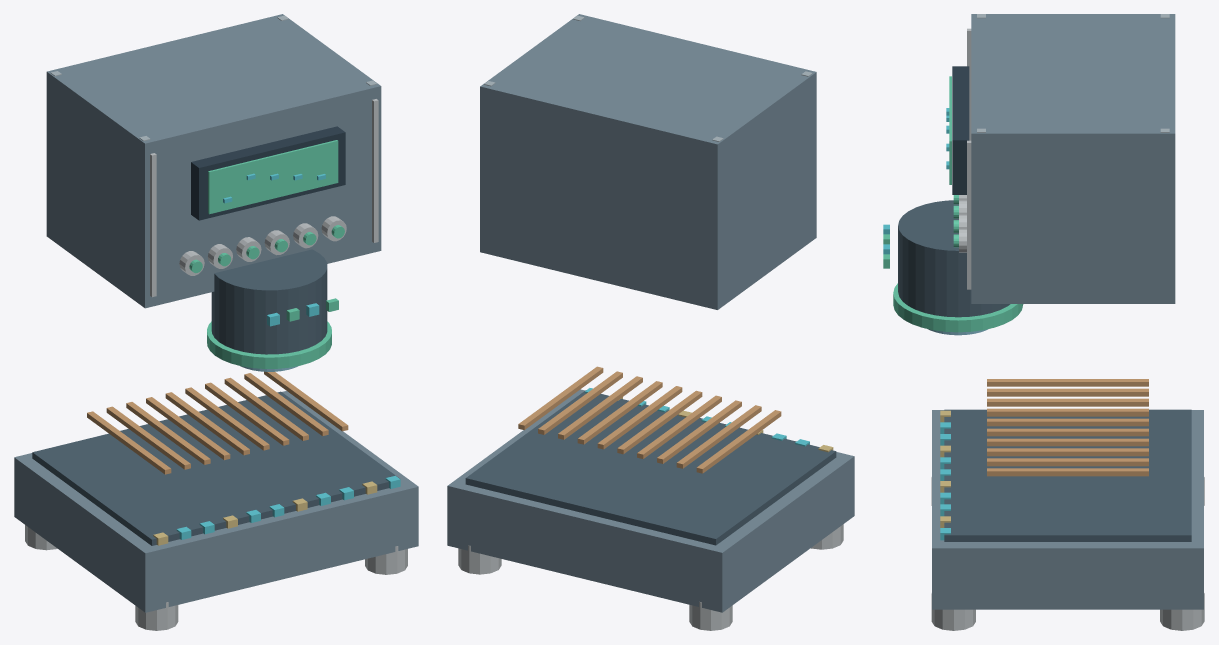
Rendered from 34_L79_AtomicScaleSurfaceFlatnessProfiler.glb.
3 renders of one model, left to right at view 1: azimuth 30°, elevation 25°; view 2: azimuth 150°, elevation 25°; view 3: azimuth 270°, elevation 25°, orthographic. The views are drawn at different scales.
Visible parts, largest first — view 1: AtomicScaleSurfaceFlatnessProfiler_Node_0017, AtomicScaleSurfaceFlatnessProfiler_Node_0000, AtomicScaleSurfaceFlatnessProfiler_Node_0001, AtomicScaleSurfaceFlatnessProfiler_Node_0024, AtomicScaleSurfaceFlatnessProfiler_Node_0028, AtomicScaleSurfaceFlatnessProfiler_Node_0027, AtomicScaleSurfaceFlatnessProfiler_Node_0025, AtomicScaleSurfaceFlatnessProfiler_Node_0022, AtomicScaleSurfaceFlatnessProfiler_Node_0023, AtomicScaleSurfaceFlatnessProfiler_Node_0051, AtomicScaleSurfaceFlatnessProfiler_Node_0047, AtomicScaleSurfaceFlatnessProfiler_Node_0003 (+9 smaller); view 2: AtomicScaleSurfaceFlatnessProfiler_Node_0017, AtomicScaleSurfaceFlatnessProfiler_Node_0000, AtomicScaleSurfaceFlatnessProfiler_Node_0001, AtomicScaleSurfaceFlatnessProfiler_Node_0050, AtomicScaleSurfaceFlatnessProfiler_Node_0046, AtomicScaleSurfaceFlatnessProfiler_Node_0055, AtomicScaleSurfaceFlatnessProfiler_Node_0047, AtomicScaleSurfaceFlatnessProfiler_Node_0051, AtomicScaleSurfaceFlatnessProfiler_Node_0052, AtomicScaleSurfaceFlatnessProfiler_Node_0048, AtomicScaleSurfaceFlatnessProfiler_Node_0053, AtomicScaleSurfaceFlatnessProfiler_Node_0054 (+3 smaller); view 3: AtomicScaleSurfaceFlatnessProfiler_Node_0017, AtomicScaleSurfaceFlatnessProfiler_Node_0001, AtomicScaleSurfaceFlatnessProfiler_Node_0000, AtomicScaleSurfaceFlatnessProfiler_Node_0024, AtomicScaleSurfaceFlatnessProfiler_Node_0027, AtomicScaleSurfaceFlatnessProfiler_Node_0025, AtomicScaleSurfaceFlatnessProfiler_Node_0047, AtomicScaleSurfaceFlatnessProfiler_Node_0048, AtomicScaleSurfaceFlatnessProfiler_Node_0049, AtomicScaleSurfaceFlatnessProfiler_Node_0050, AtomicScaleSurfaceFlatnessProfiler_Node_0051, AtomicScaleSurfaceFlatnessProfiler_Node_0052 (+7 smaller).
Part boxes in pixels (<box>): AtomicScaleSurfaceFlatnessProfiler_Node_0017: <box>46,14,381,308</box>; AtomicScaleSurfaceFlatnessProfiler_Node_0000: <box>14,391,418,612</box>; AtomicScaleSurfaceFlatnessProfiler_Node_0001: <box>32,391,399,545</box>; AtomicScaleSurfaceFlatnessProfiler_Node_0024: <box>211,249,327,354</box>; AtomicScaleSurfaceFlatnessProfiler_Node_0028: <box>208,140,338,214</box>; AtomicScaleSurfaceFlatnessProfiler_Node_0027: <box>191,126,345,220</box>; AtomicScaleSurfaceFlatnessProfiler_Node_0025: <box>207,321,331,368</box>; AtomicScaleSurfaceFlatnessProfiler_Node_0022: <box>150,153,156,297</box>; AtomicScaleSurfaceFlatnessProfiler_Node_0023: <box>372,99,378,242</box>; AtomicScaleSurfaceFlatnessProfiler_Node_0051: <box>185,387,269,450</box>; AtomicScaleSurfaceFlatnessProfiler_Node_0047: <box>106,406,190,469</box>; AtomicScaleSurfaceFlatnessProfiler_Node_0003: <box>135,602,178,630</box>; AtomicScaleSurfaceFlatnessProfiler_Node_0017: <box>480,14,816,309</box>; AtomicScaleSurfaceFlatnessProfiler_Node_0000: <box>447,389,854,612</box>; AtomicScaleSurfaceFlatnessProfiler_Node_0001: <box>465,390,836,545</box>; AtomicScaleSurfaceFlatnessProfiler_Node_0050: <box>617,390,702,454</box>; AtomicScaleSurfaceFlatnessProfiler_Node_0046: <box>696,410,781,473</box>; AtomicScaleSurfaceFlatnessProfiler_Node_0055: <box>518,366,603,430</box>; AtomicScaleSurfaceFlatnessProfiler_Node_0047: <box>676,405,761,468</box>; AtomicScaleSurfaceFlatnessProfiler_Node_0051: <box>597,386,682,449</box>; AtomicScaleSurfaceFlatnessProfiler_Node_0052: <box>577,381,662,444</box>; AtomicScaleSurfaceFlatnessProfiler_Node_0048: <box>657,400,741,463</box>; AtomicScaleSurfaceFlatnessProfiler_Node_0053: <box>558,376,642,439</box>; AtomicScaleSurfaceFlatnessProfiler_Node_0054: <box>538,371,622,434</box>; AtomicScaleSurfaceFlatnessProfiler_Node_0017: <box>971,14,1175,303</box>; AtomicScaleSurfaceFlatnessProfiler_Node_0001: <box>944,409,1191,541</box>; AtomicScaleSurfaceFlatnessProfiler_Node_0000: <box>932,410,1203,609</box>; AtomicScaleSurfaceFlatnessProfiler_Node_0024: <box>898,200,1010,317</box>; AtomicScaleSurfaceFlatnessProfiler_Node_0027: <box>952,66,969,194</box>; AtomicScaleSurfaceFlatnessProfiler_Node_0025: <box>893,283,1023,332</box>; AtomicScaleSurfaceFlatnessProfiler_Node_0047: <box>987,388,1148,396</box>; AtomicScaleSurfaceFlatnessProfiler_Node_0048: <box>987,398,1148,406</box>; AtomicScaleSurfaceFlatnessProfiler_Node_0049: <box>987,408,1148,416</box>; AtomicScaleSurfaceFlatnessProfiler_Node_0050: <box>987,418,1148,426</box>; AtomicScaleSurfaceFlatnessProfiler_Node_0051: <box>987,428,1148,436</box>; AtomicScaleSurfaceFlatnessProfiler_Node_0052: <box>987,438,1148,446</box>.
Size of the model in its own units: 1.25 by 2.07 by 1.23.
